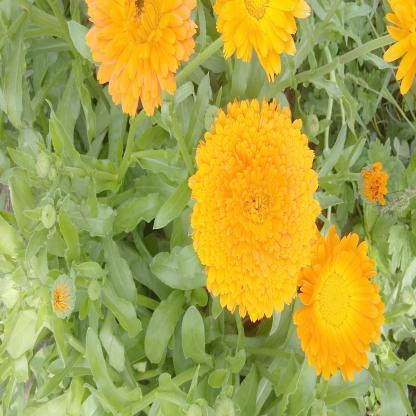marigold: (194, 106, 313, 314), (84, 0, 194, 104), (298, 241, 377, 368), (218, 0, 309, 72)
